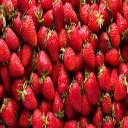strawberry: (18, 82, 38, 113)
